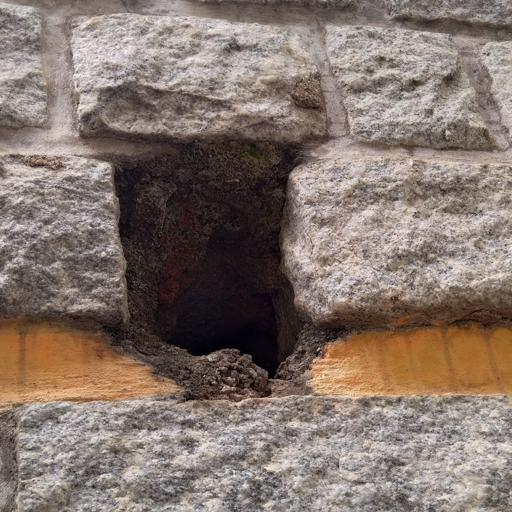spalling: (89, 68, 365, 421)
